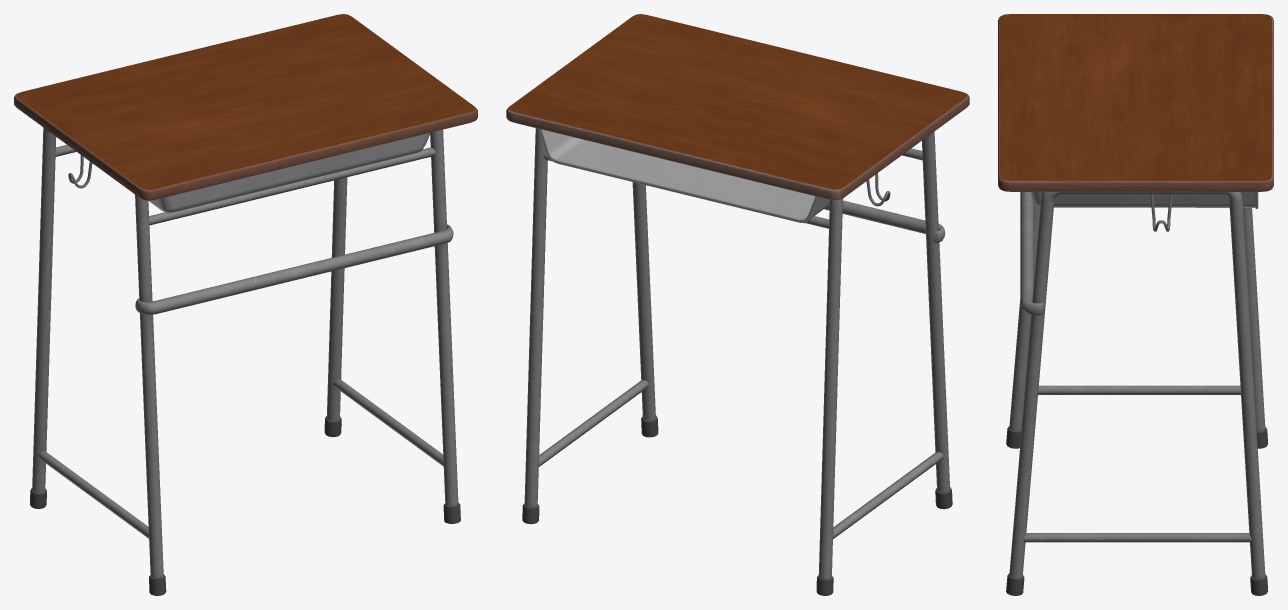
The model's file is Desk_01.FBX.
The picture shows the model from 3 angles, left to right: view 1: azimuth 30°, elevation 25°; view 2: azimuth 150°, elevation 25°; view 3: azimuth 270°, elevation 25°; orthographic projection. The views are drawn at different scales.
Visible parts, largest first — view 1: Desk_01; view 2: Desk_01; view 3: Desk_01.
Part boxes in pixels (left/top/right/bottom): Desk_01: left=14, top=14, right=477, bottom=595; Desk_01: left=506, top=14, right=969, bottom=595; Desk_01: left=998, top=14, right=1273, bottom=595.
Size of the model in its own units: 65 by 76.08 by 45.
